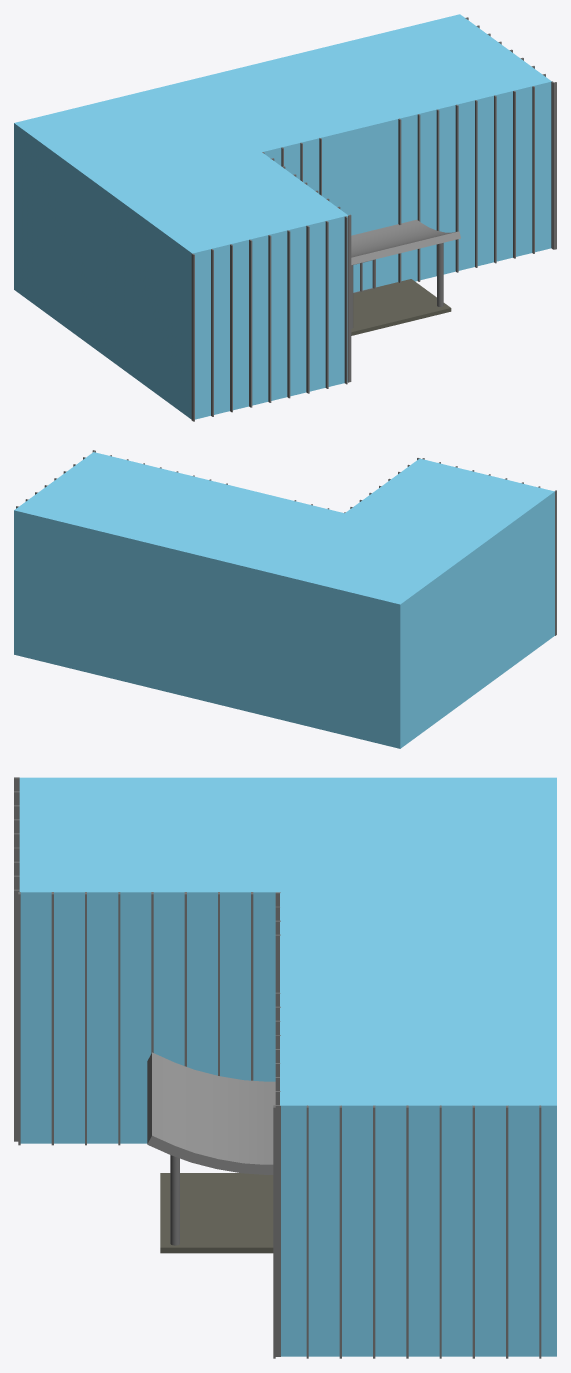
Rendered from S_Building.dae.
The picture shows the model from 3 angles, top to bottom: view 1: azimuth 30°, elevation 25°; view 2: azimuth 150°, elevation 25°; view 3: azimuth 270°, elevation 25°; orthographic projection. The views are drawn at different scales.
Parts seen in each view (by area): view 1: Plane.038; view 2: Plane.038; view 3: Plane.038.
Boxes of the visible parts, bbox=[...] form: Plane.038: bbox=[14, 14, 556, 421]; Plane.038: bbox=[14, 450, 556, 748]; Plane.038: bbox=[14, 777, 556, 1358].
Bounding box in the file's own units: 70.54 × 49 × 25.01.
